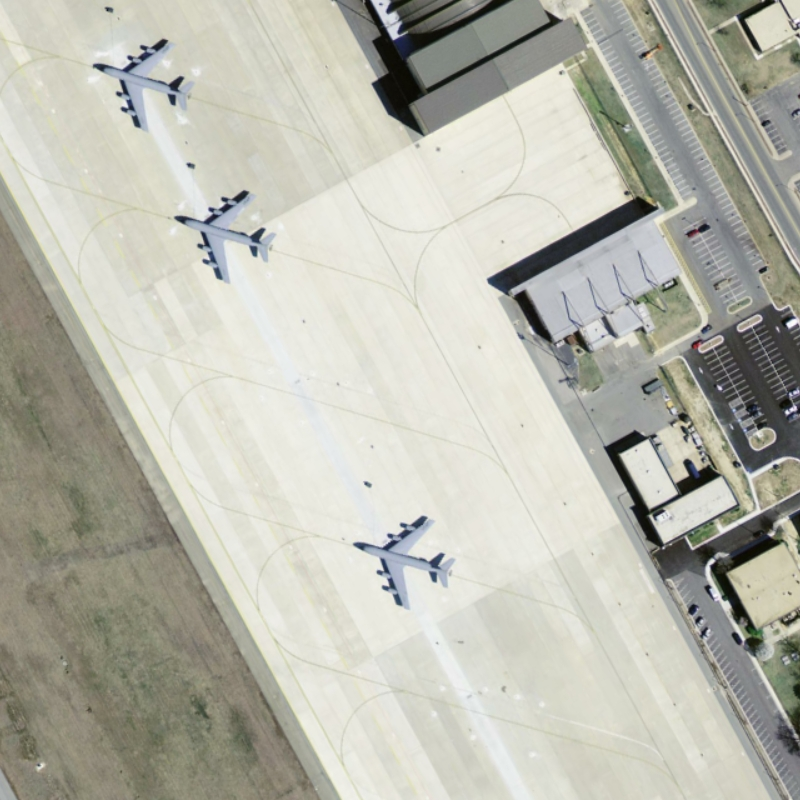A14: (350, 506, 460, 611), (87, 35, 201, 133), (171, 186, 282, 286)
